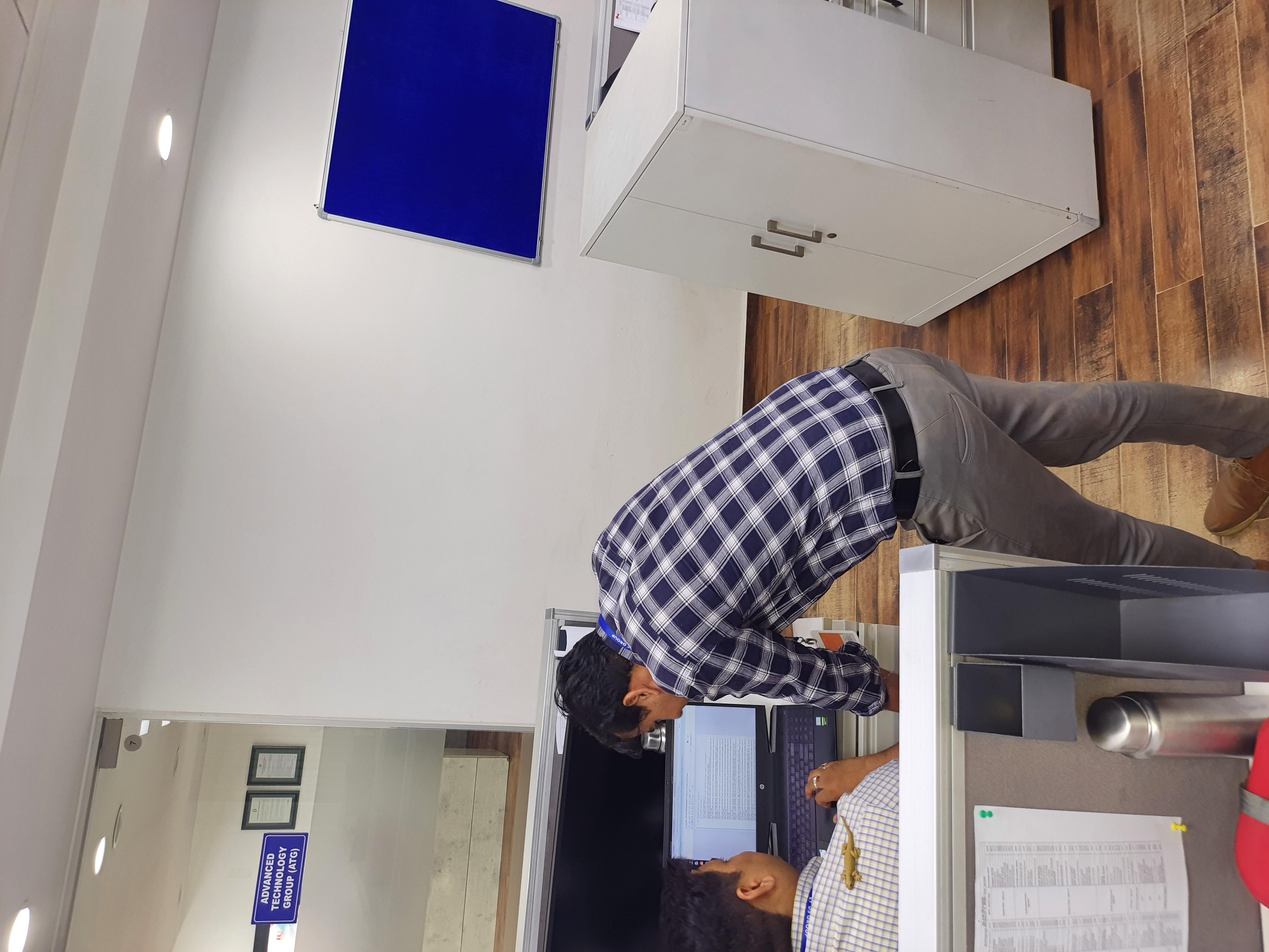lizard: (48, 608, 199, 652)
